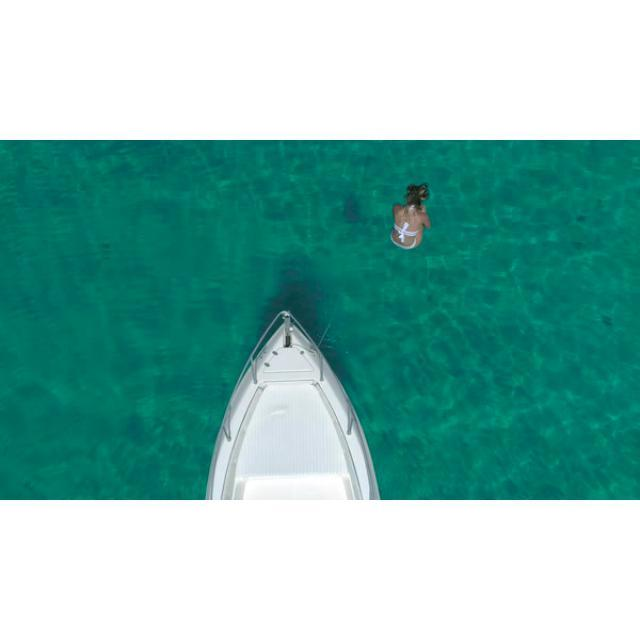human: (392, 182, 433, 252)
